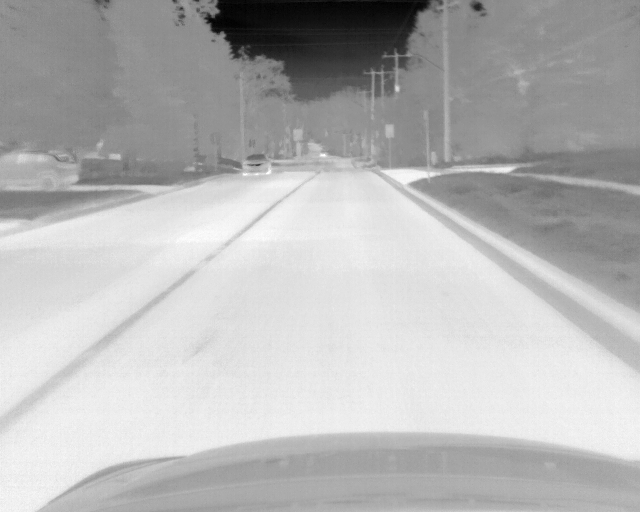car: (1, 149, 81, 191), (240, 153, 272, 176)
